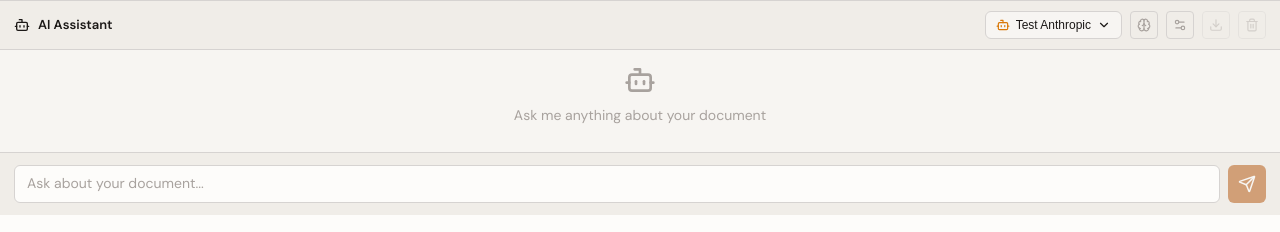
Test: AIChat › Message Input › enables send button when input has text
Step 1. Type "Hello" into the text box with placeholder "Ask about your document..." → x=617, y=184, box [14,165,1220,203]
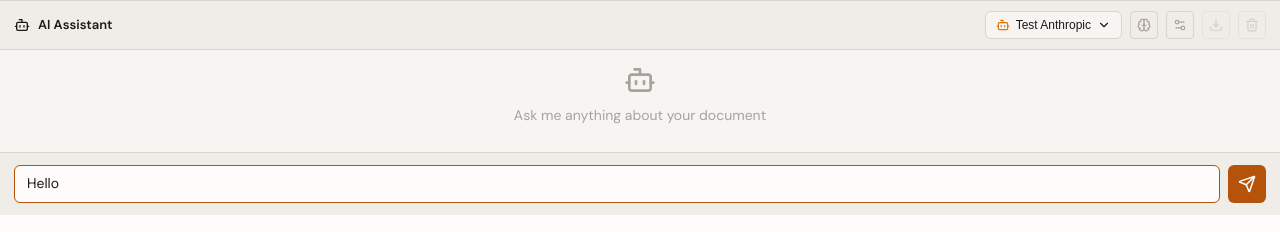
Expected: the button titled "send" is enabled, [1228,165,1266,203]
